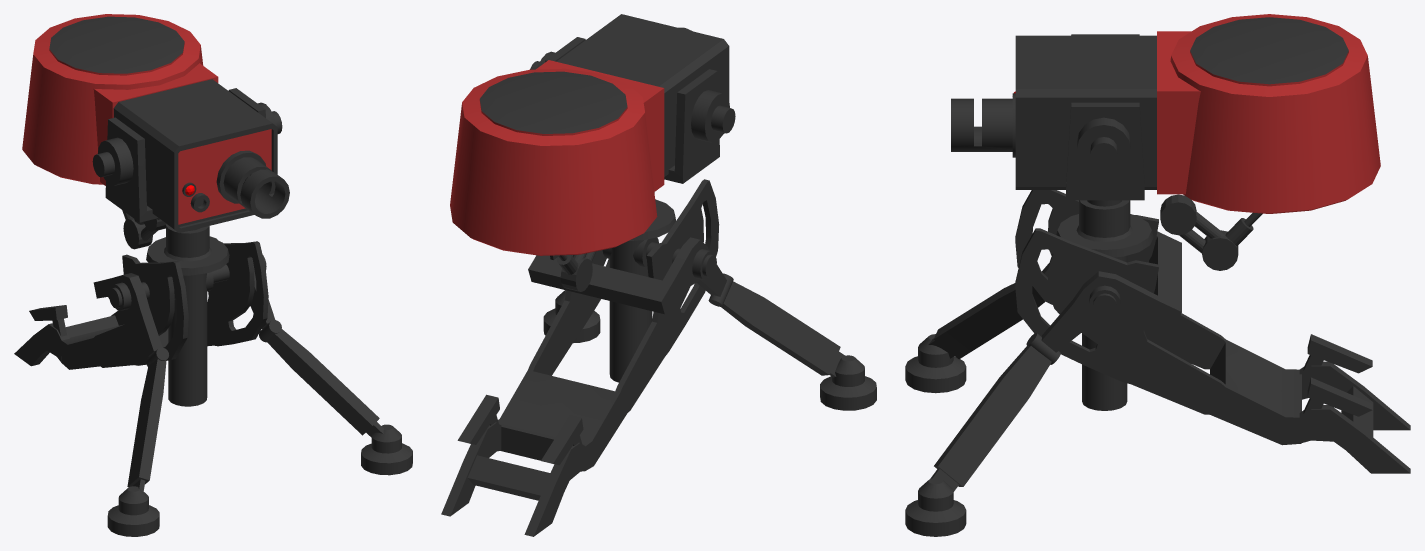
The model's file is sentry.glb.
3 renders of one model, left to right at view 1: azimuth 30°, elevation 25°; view 2: azimuth 150°, elevation 25°; view 3: azimuth 270°, elevation 25°, orthographic. The views are drawn at different scales.
Visible parts, largest first — view 1: Level1SentryHead_1, Level1SentryBody_0; view 2: Level1SentryHead_1, Level1SentryBody_0; view 3: Level1SentryHead_1, Level1SentryBody_0.
Boxes of the visible parts, x1=… form: Level1SentryHead_1: x1=22, y1=14, x2=289, y2=249; Level1SentryBody_0: x1=14, y1=224, x2=412, y2=536; Level1SentryHead_1: x1=450, y1=14, x2=735, y2=291; Level1SentryBody_0: x1=441, y1=179, x2=876, y2=536; Level1SentryHead_1: x1=951, y1=14, x2=1380, y2=270; Level1SentryBody_0: x1=905, y1=190, x2=1410, y2=536.
Bounding box in the file's own units: 0.8664 × 0.9611 × 1.09.
